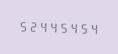five: (57, 19, 66, 34), (17, 18, 26, 32), (77, 20, 86, 34)
four: (37, 19, 46, 33), (47, 19, 56, 33), (67, 20, 76, 34), (87, 21, 96, 35)
two: (27, 18, 36, 33)
